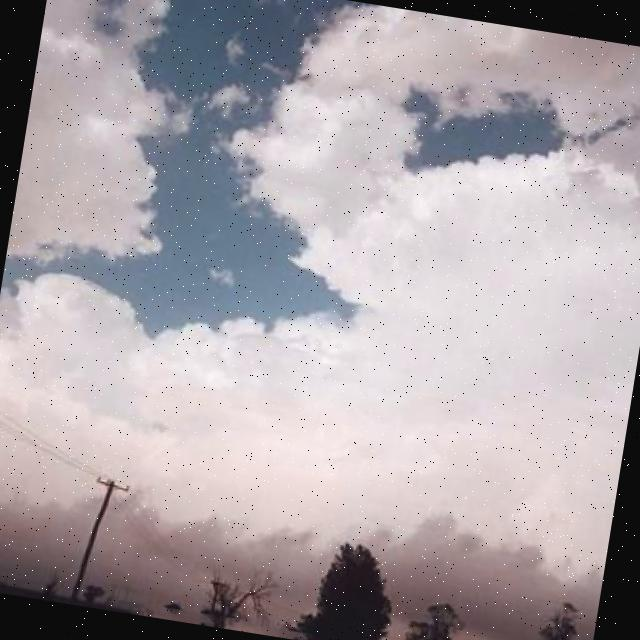St: (1, 1, 640, 494)
